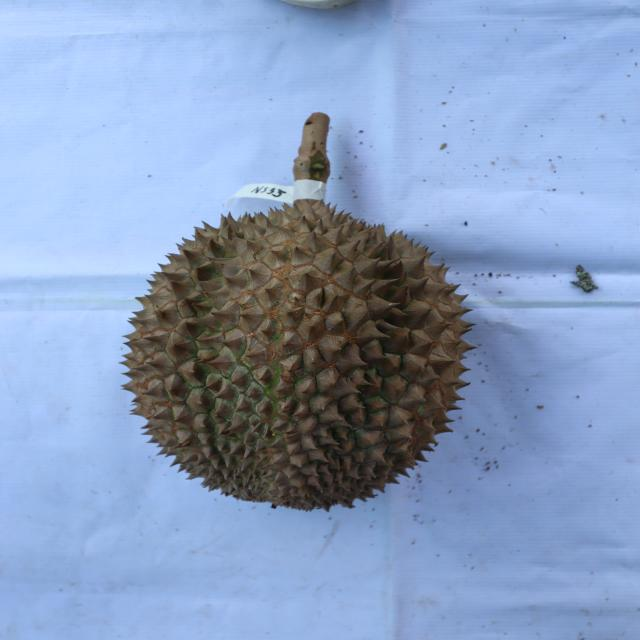mature: (120, 197, 474, 516)
